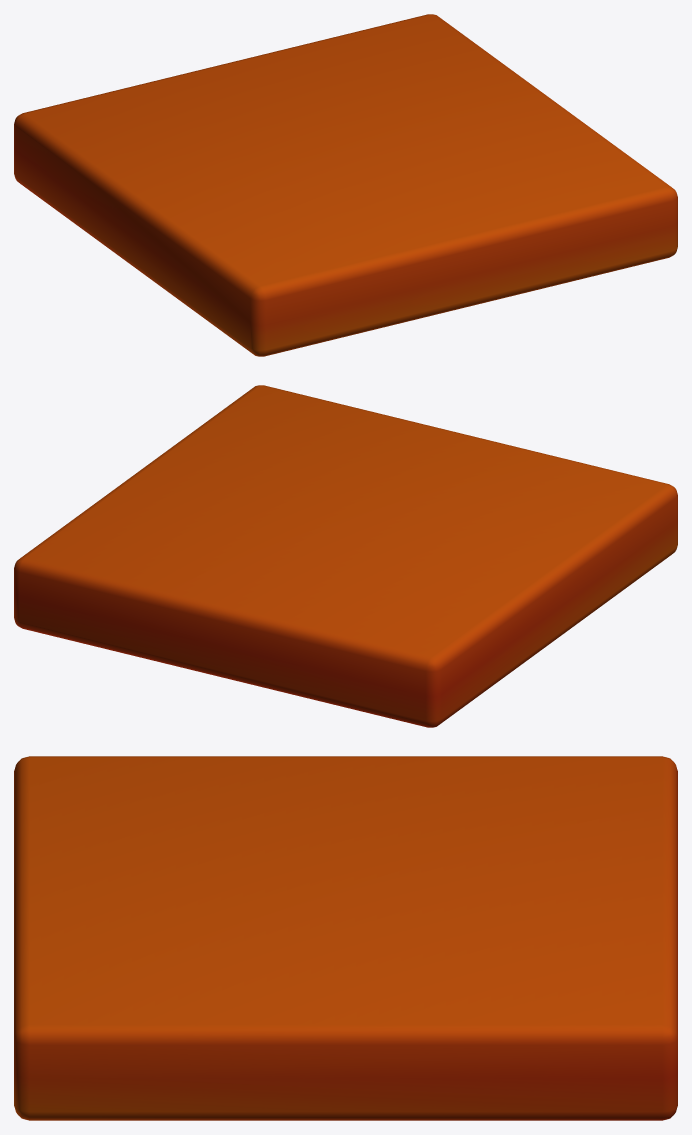
File: claybig.fbx
3 renders of one model, top to bottom at view 1: azimuth 30°, elevation 25°; view 2: azimuth 150°, elevation 25°; view 3: azimuth 270°, elevation 25°, orthographic. The views are drawn at different scales.
Visible parts, largest first — view 1: Cube.035; view 2: Cube.035; view 3: Cube.035.
Boxes of the visible parts, bbox=[...] form: Cube.035: bbox=[14, 14, 677, 356]; Cube.035: bbox=[14, 385, 677, 727]; Cube.035: bbox=[14, 756, 677, 1120].
Bounding box in the file's own units: 109 × 17.13 × 109.
1 material, 1 textured.
